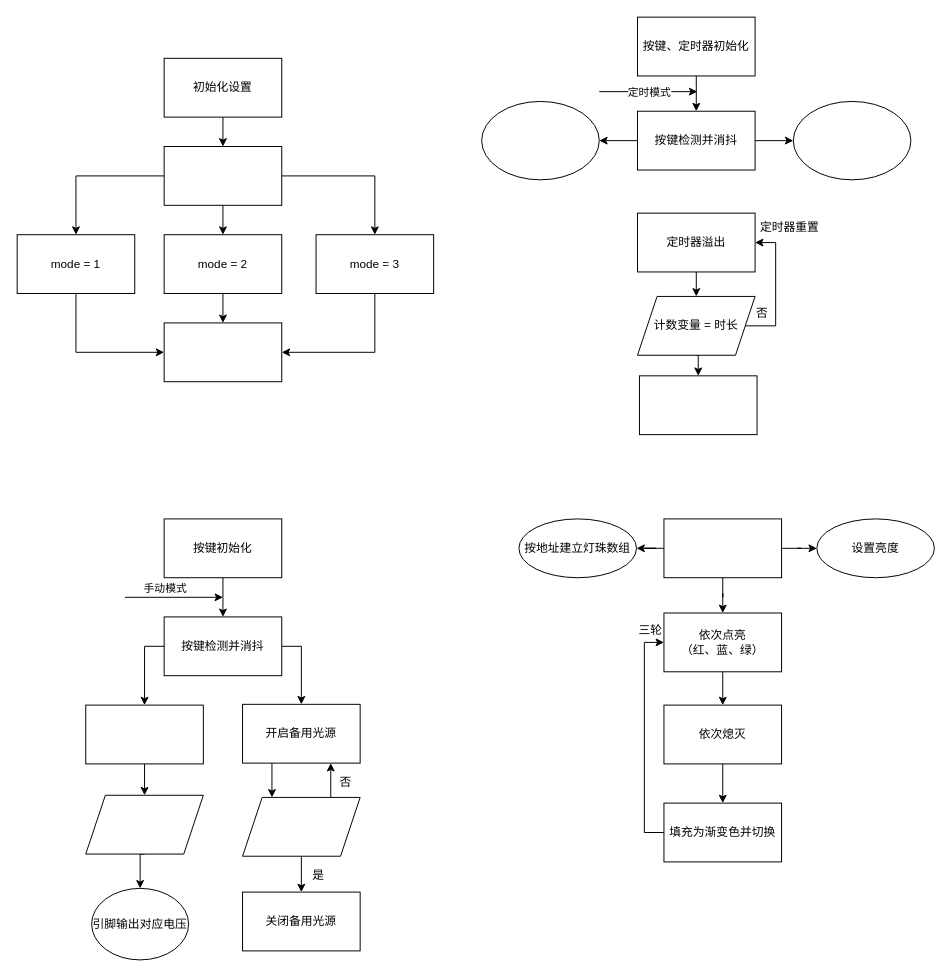
Image size: 952x977. Some labels were removed from this diagram. Here are the shapes that lost their labels. From the top down, the centre of each, then its label:
the point at 540,140: 提高或降低时长
the point at 851,140: 点亮灯 开启定时器
the point at 222,175: 模式判断
the point at 222,352: 显示相应内容
the point at 697,405: 重置计数变量 熄灭灯
the point at 722,548: 建立led对象
the point at 144,734: 增大或减小亮度
the point at 144,824: 亮度合法性检测
the point at 301,826: 已全部开启
